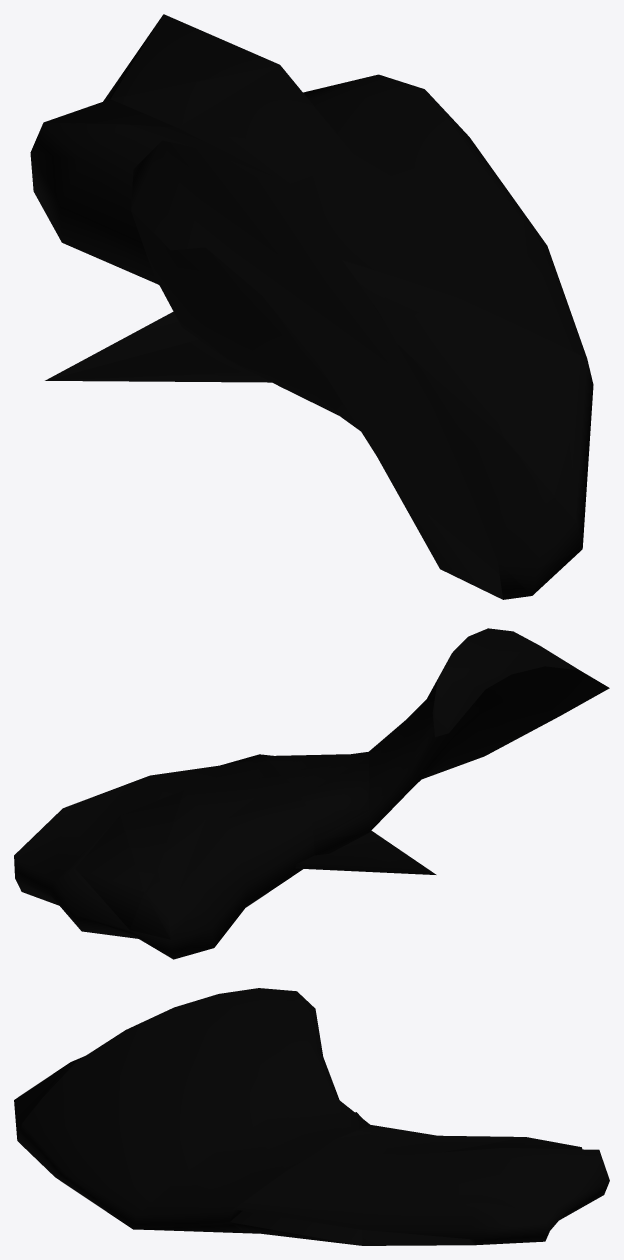
The model's file is foca_aleta_Inf_Izquierda.obj.
The picture shows the model from 3 angles, top to bottom: view 1: azimuth 30°, elevation 25°; view 2: azimuth 150°, elevation 25°; view 3: azimuth 270°, elevation 25°; orthographic projection. The views are drawn at different scales.
Parts seen in each view (by area): view 1: sea; view 2: sea; view 3: sea.
Part boxes in pixels (x1,y1,x2,y2): sea: [30, 14, 593, 599]; sea: [14, 628, 609, 959]; sea: [14, 988, 609, 1245].
Size of the model in its own units: 0.4809 by 0.3154 by 0.9201.
Materials: 1 (1 with a texture image).
